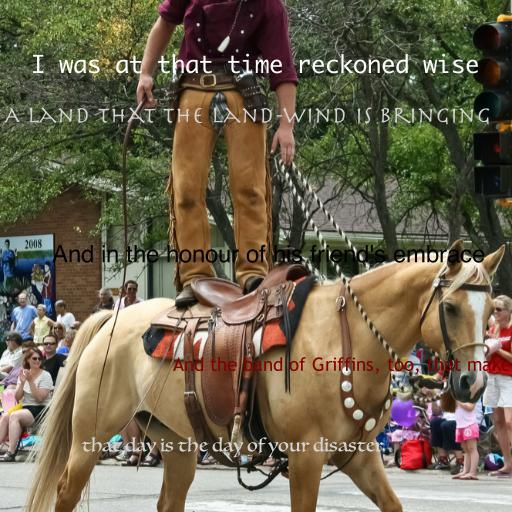Big Caslon: (51, 244, 485, 263)
Herculanum: (3, 107, 491, 125)
Luminari: (81, 437, 383, 458)
Monaco: (31, 53, 479, 74)
Trebuchet MS: (173, 357, 511, 375)
